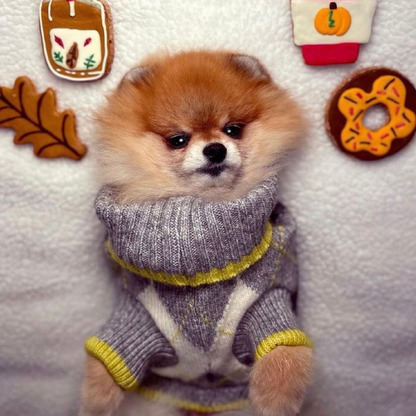Pomeranian: (89, 48, 322, 405)
